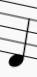D: (8, 0, 31, 69)
